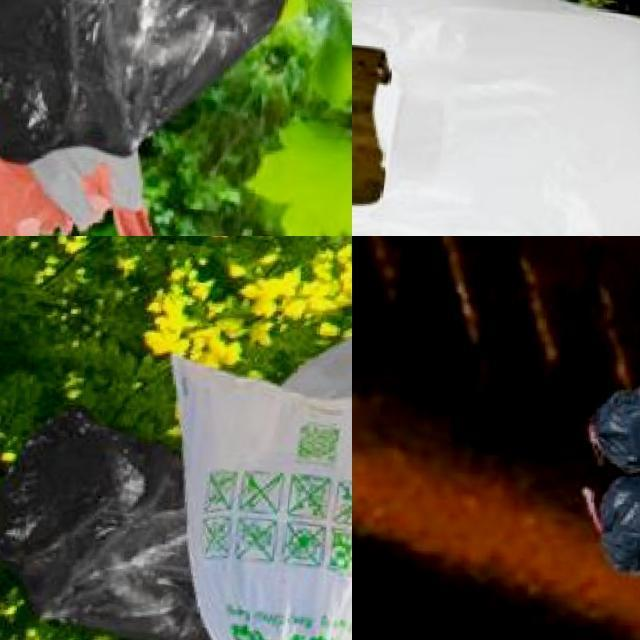waste: (352, 0, 640, 236), (144, 357, 352, 640), (0, 0, 322, 181), (0, 0, 208, 236), (0, 400, 198, 640), (588, 355, 640, 476), (595, 460, 640, 573)
